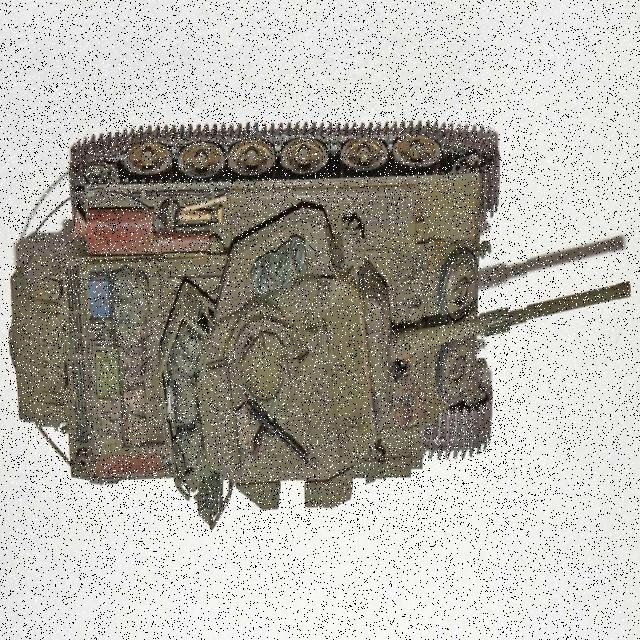MIL_MBT: (23, 84, 527, 531)
